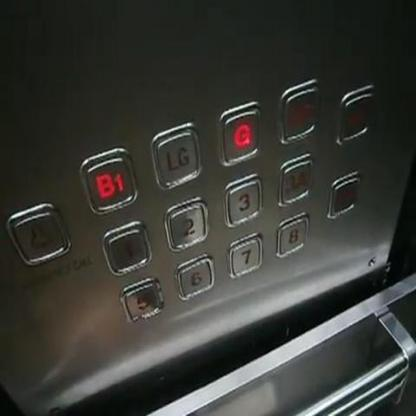1: (99, 219, 151, 276)
2: (165, 195, 209, 252)
3: (222, 172, 263, 226)
5: (117, 275, 166, 325)
6: (174, 255, 215, 302)
7: (226, 231, 263, 281)
8: (274, 212, 310, 256)
B1: (79, 148, 141, 218)
G: (217, 102, 262, 166)
LG: (149, 121, 202, 190)
alarm: (5, 201, 68, 267)
blur: (277, 78, 318, 143), (337, 86, 375, 145), (279, 151, 312, 205), (327, 172, 361, 224)
